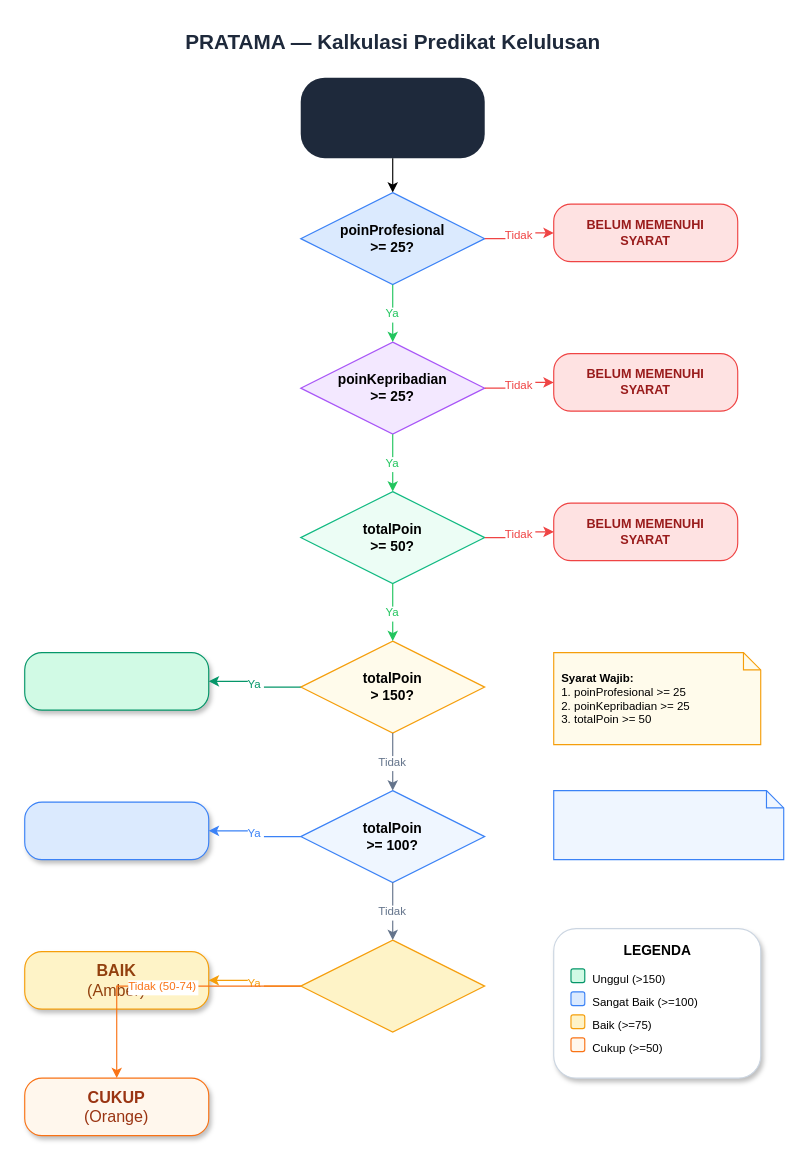
Some shapes in this 804 by 1164 pixel diagram are drawn without their labels. Here are the shapes that lost their labels. From the top down, the centre of each, then its label:
At pixel 392 117: "INPUT poinProfesional poinKepribadian totalPoin".
At pixel 117 682: "UNGGUL (Emerald)".
At pixel 117 832: "SANGAT BAIK (Blue)".
At pixel 668 824: "Sumber Poin: totalPoin = poinSendiri + poinAnggota (hanya dari SPK disetujui)".
At pixel 392 985: "totalPoin >= 75?".
